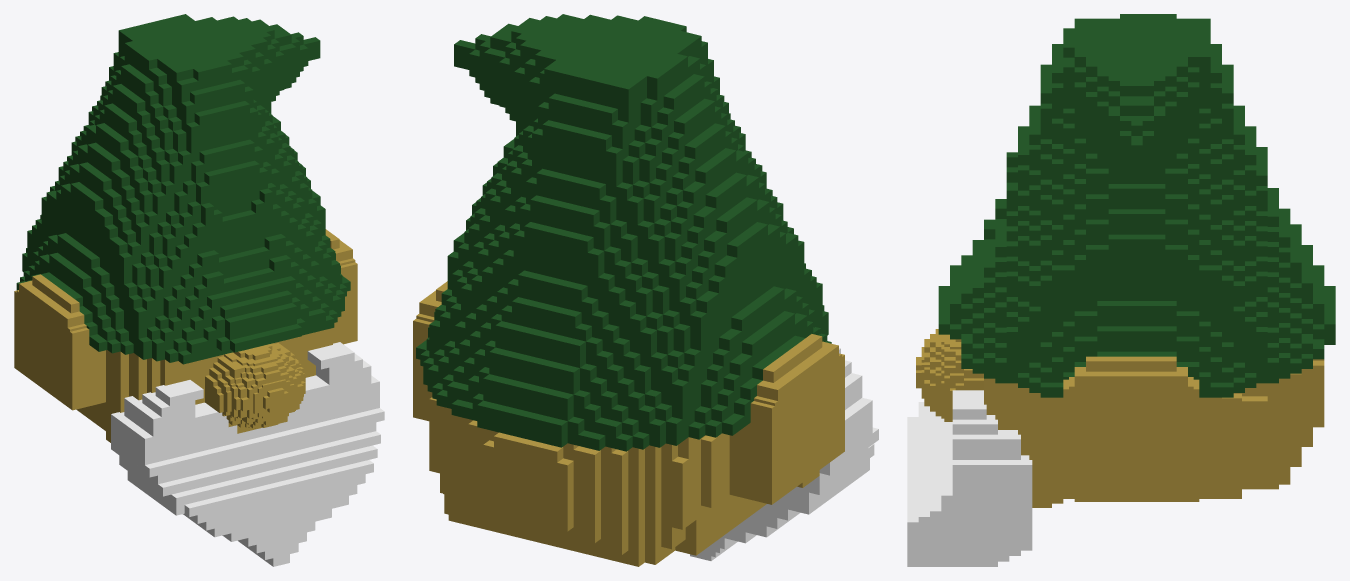
Rendered from gnome.gltf.
3 renders of one model, left to right at view 1: azimuth 30°, elevation 25°; view 2: azimuth 150°, elevation 25°; view 3: azimuth 270°, elevation 25°, orthographic. The views are drawn at different scales.
Parts seen in each view (by area): view 1: Untitled; view 2: Untitled; view 3: Untitled.
Part boxes in pixels (left/top/right/bottom): Untitled: left=14, top=14, right=384, bottom=566; Untitled: left=413, top=14, right=878, bottom=566; Untitled: left=907, top=14, right=1335, bottom=566.
Bounding box in the file's own units: 13.6 × 20.4 × 15.1.
Materials: 1 (1 with a texture image).
